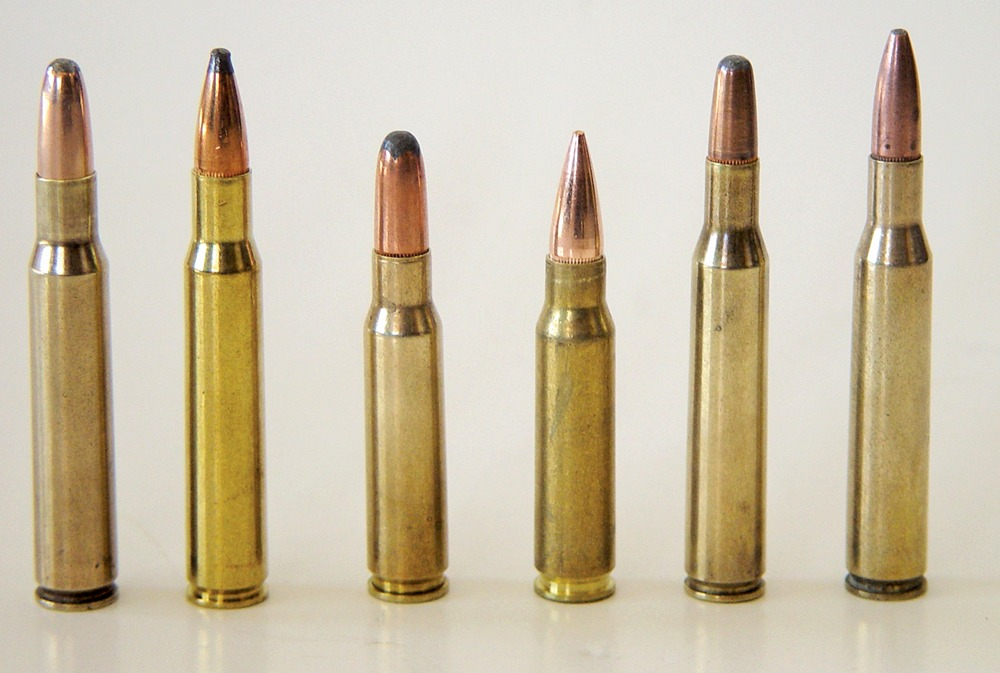bullet: (837, 24, 932, 606), (673, 50, 771, 608), (22, 51, 118, 614), (181, 45, 275, 614), (523, 127, 619, 609), (357, 123, 452, 608)
